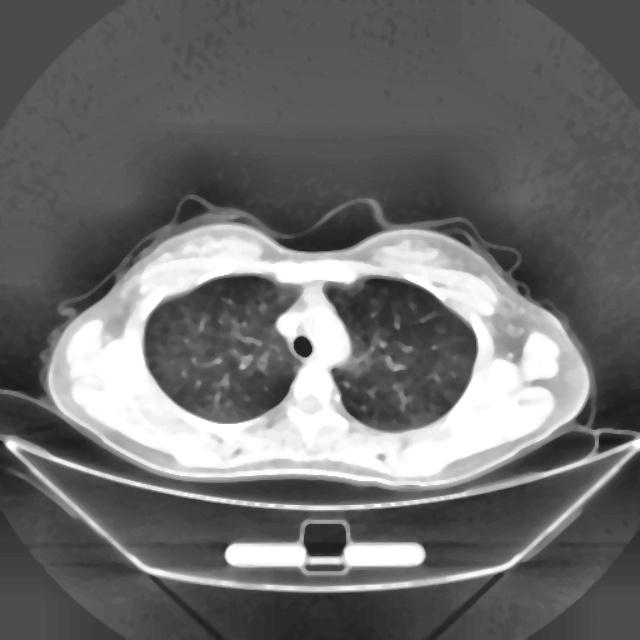covid: (41, 193, 593, 492)
